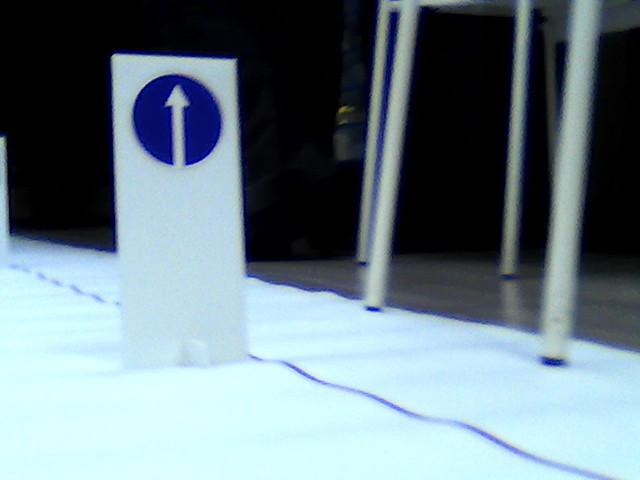forw: (132, 70, 226, 170)
